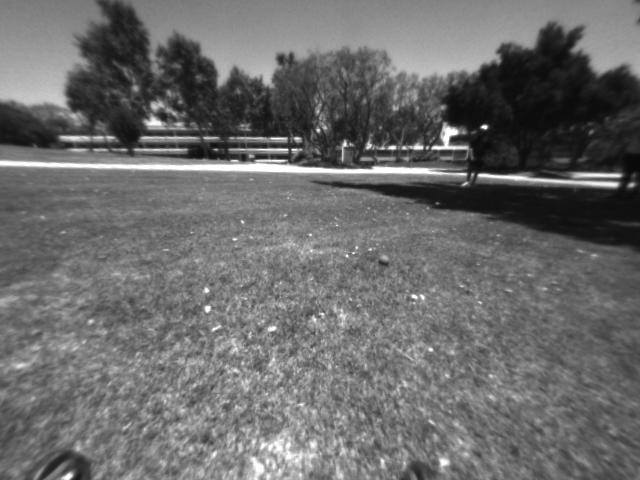dogtoy: (374, 252, 396, 269)
